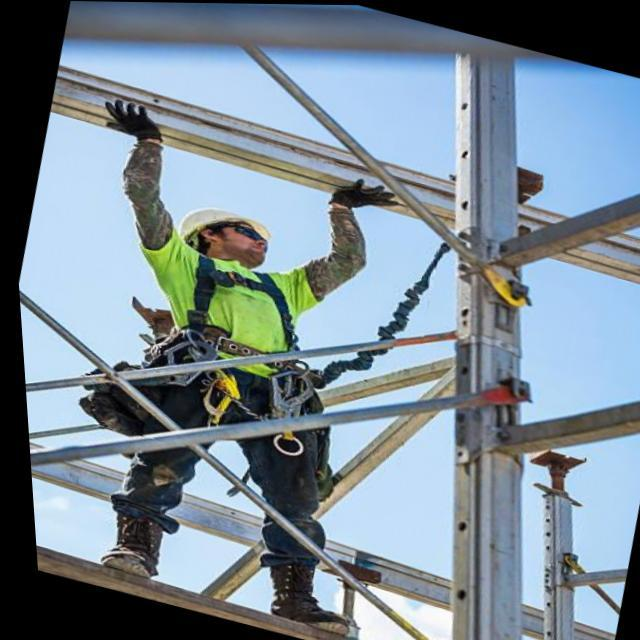belt: (132, 245, 332, 441)
